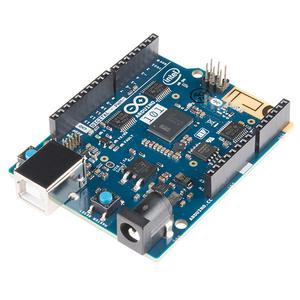duino: (10, 21, 296, 256)
